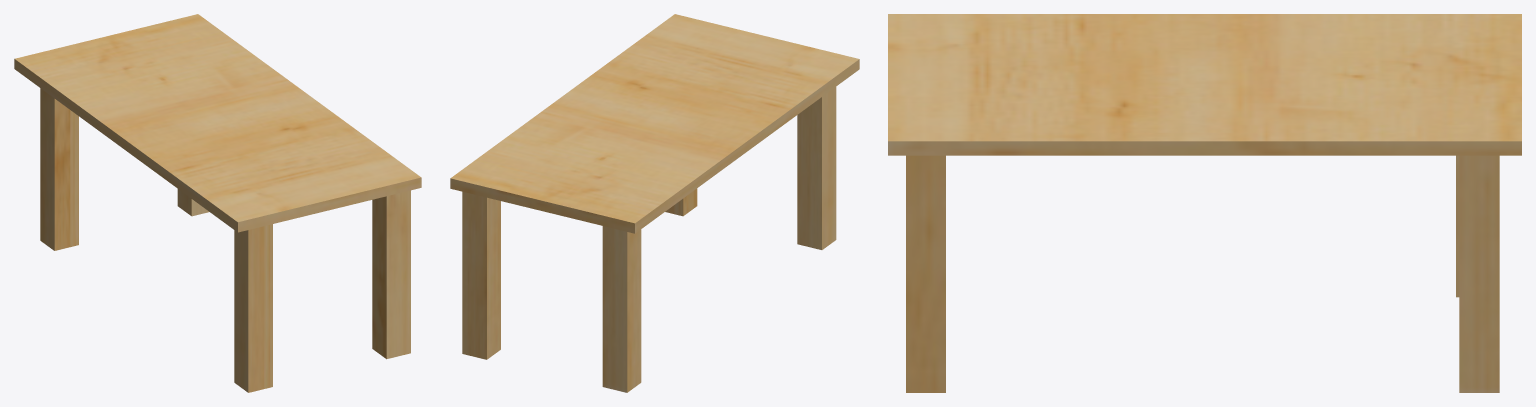
Rendered from table.dae.
3 renders of one model, left to right at view 1: azimuth 30°, elevation 25°; view 2: azimuth 150°, elevation 25°; view 3: azimuth 270°, elevation 25°, orthographic. The views are drawn at different scales.
Parts seen in each view (by area): view 1: Plane_001; view 2: Plane_001; view 3: Plane_001.
Boxes of the visible parts, bbox=[...] form: Plane_001: bbox=[14, 14, 421, 392]; Plane_001: bbox=[450, 14, 859, 392]; Plane_001: bbox=[888, 14, 1521, 392].
Size of the model in its own units: 0.1391 by 0.293 by 0.1298.
1 material, 1 textured.
